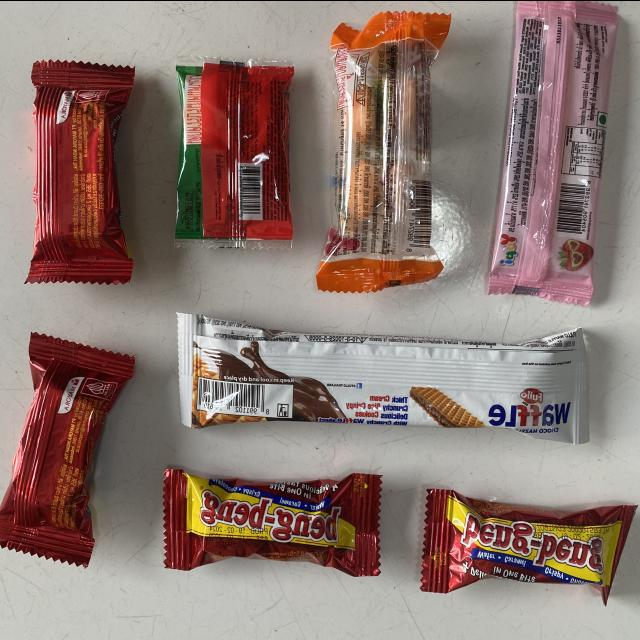plastik: (177, 313, 589, 442), (488, 0, 619, 304), (316, 10, 451, 292), (0, 332, 135, 566), (421, 488, 636, 601), (27, 60, 135, 284), (163, 468, 381, 576), (175, 61, 293, 240)
